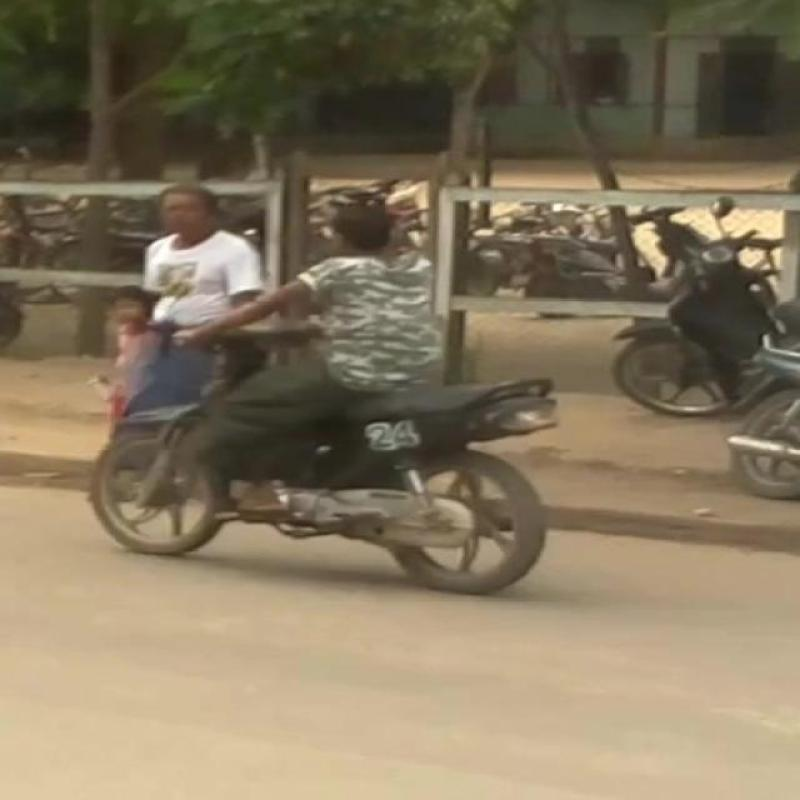nohelmet: (281, 186, 440, 251)
